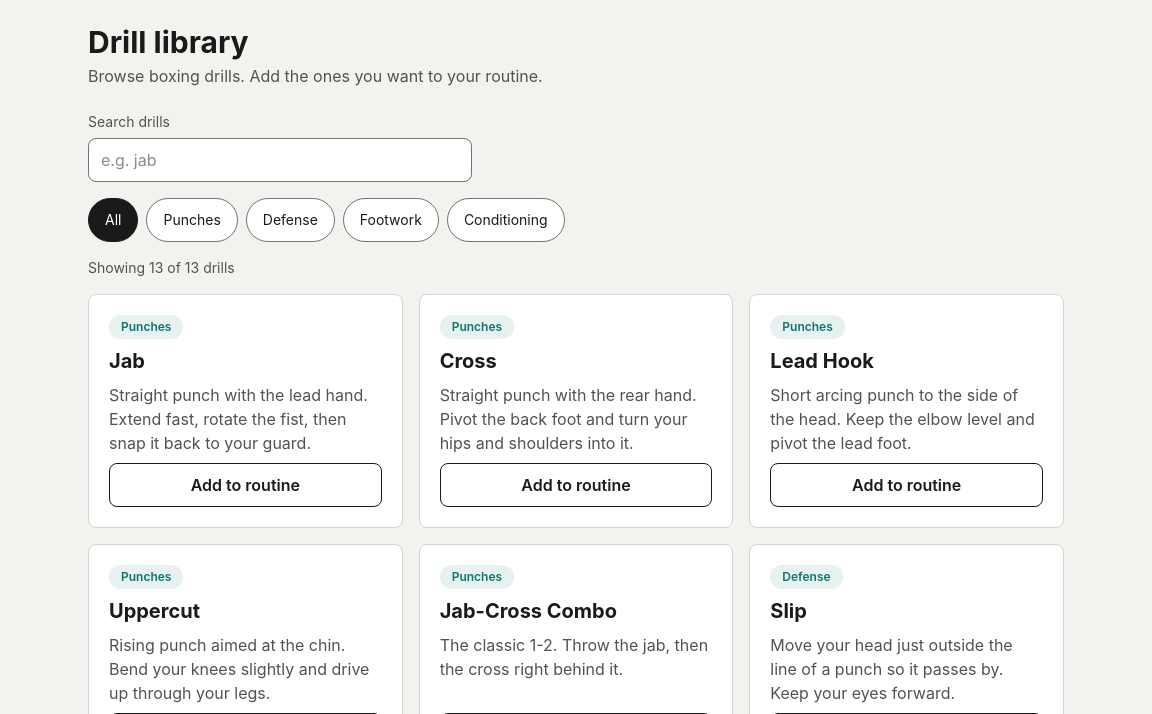
Test: Drills page › shows an empty state when the search matches nothing
The width and height of the screenshot is (1152, 714).
In the search field labelled "Search drills": (280, 160) x1=88 y1=138 x2=472 y2=182, type "zzzzzz"
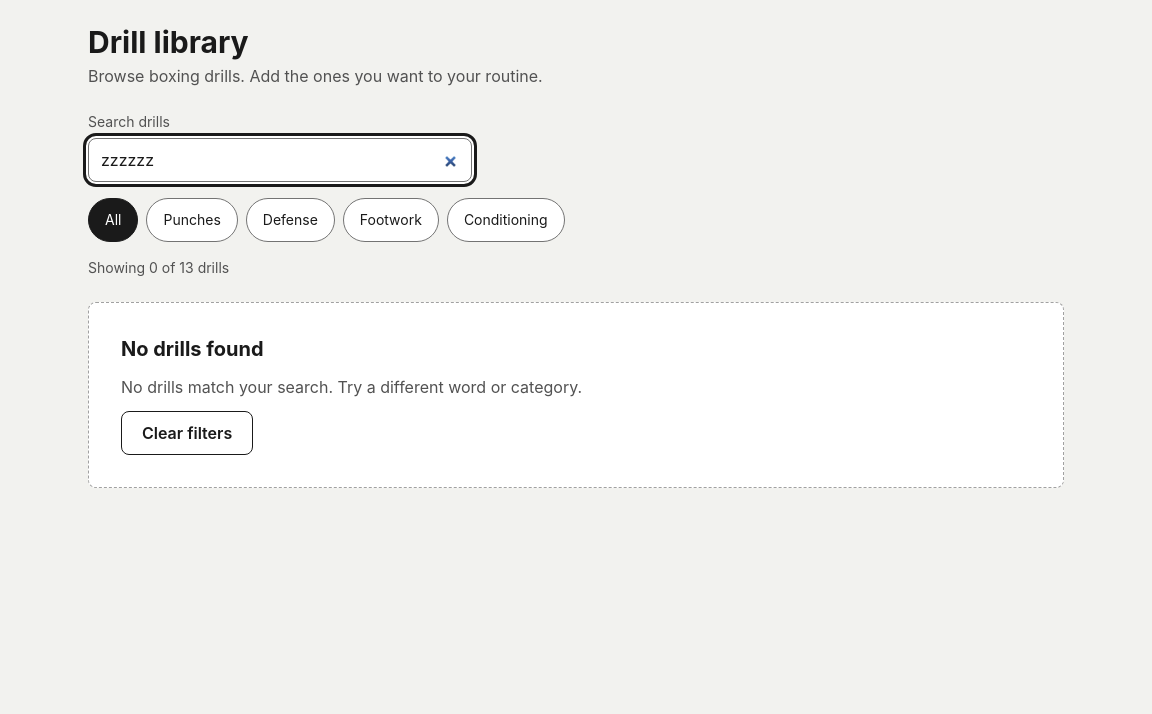
Result: the text "No drills match" is shown at x1=121 y1=377 x2=582 y2=397
